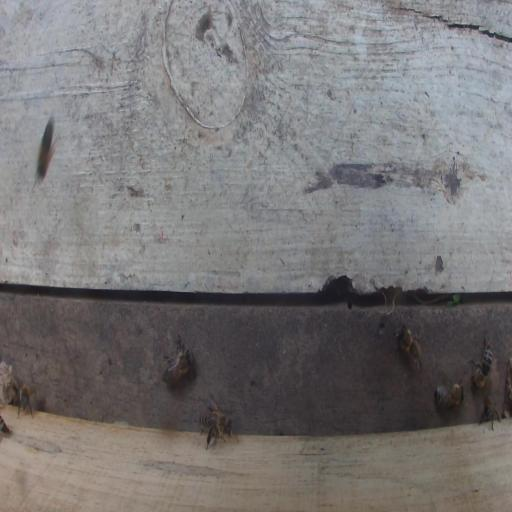nonpollenbee: (199, 404, 239, 450), (162, 332, 194, 386), (394, 323, 422, 373), (467, 334, 492, 390), (434, 375, 466, 411), (479, 395, 501, 430), (16, 384, 35, 419)
pollenbee: (33, 112, 58, 180)
